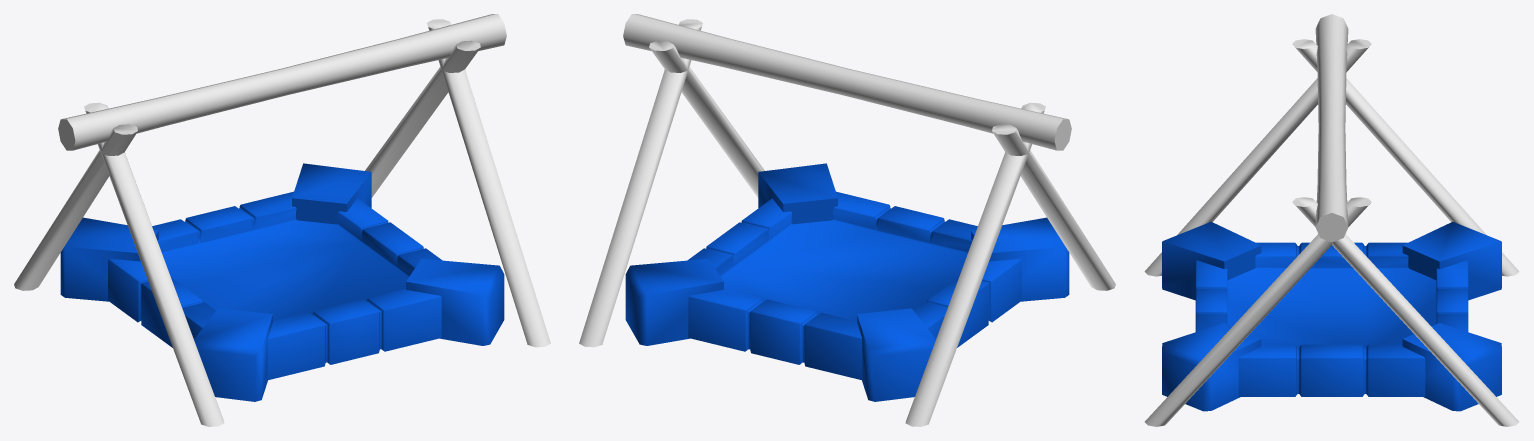
File: SM_FirePitHolder.fbx
The picture shows the model from 3 angles, left to right: view 1: azimuth 30°, elevation 25°; view 2: azimuth 150°, elevation 25°; view 3: azimuth 270°, elevation 25°; orthographic projection. The views are drawn at different scales.
Parts seen in each view (by area): view 1: SM_FirePitHolder; view 2: SM_FirePitHolder; view 3: SM_FirePitHolder.
Part boxes in pixels (<box>): SM_FirePitHolder: <box>14,14,550,426</box>; SM_FirePitHolder: <box>579,14,1115,426</box>; SM_FirePitHolder: <box>1144,14,1519,426</box>.
Size of the model in its own units: 499 by 273 by 398.
